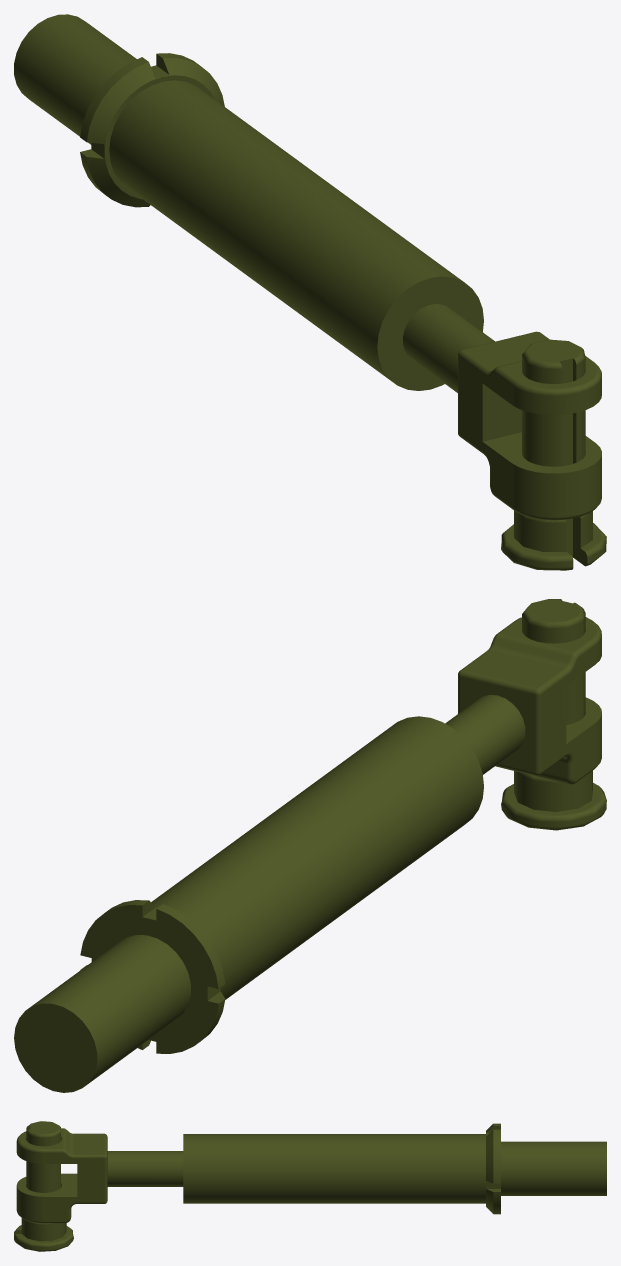
File: CumGiamGiat.glb
The picture shows the model from 3 angles, top to bottom: view 1: azimuth 30°, elevation 25°; view 2: azimuth 150°, elevation 25°; view 3: azimuth 270°, elevation 25°; orthographic projection. The views are drawn at different scales.
Visible parts, largest first — view 1: CumGiamGiat; view 2: CumGiamGiat; view 3: CumGiamGiat.
Part boxes in pixels (left/top/right/bottom): CumGiamGiat: left=14, top=14, right=606, bottom=570; CumGiamGiat: left=14, top=599, right=606, bottom=1092; CumGiamGiat: left=14, top=1121, right=606, bottom=1251.
Bounding box in the file's own units: 29.85 × 41 × 196.
